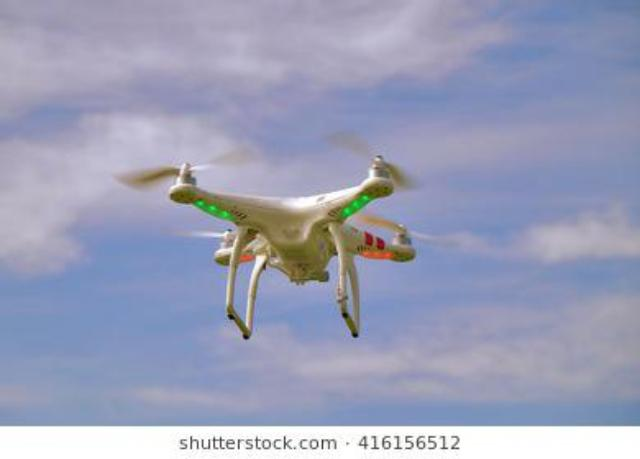drone: (82, 107, 476, 363)
